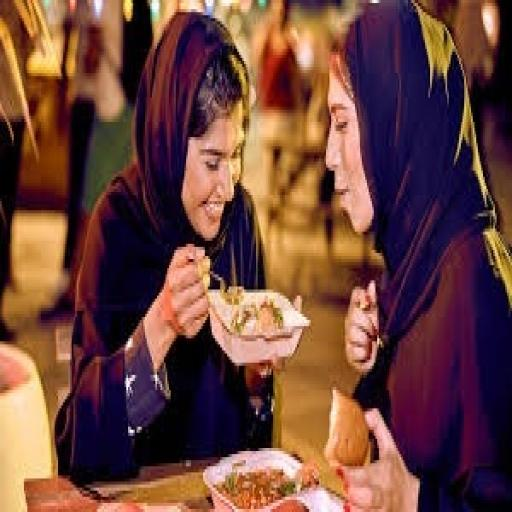eating: (54, 3, 508, 503), (60, 9, 288, 479)
